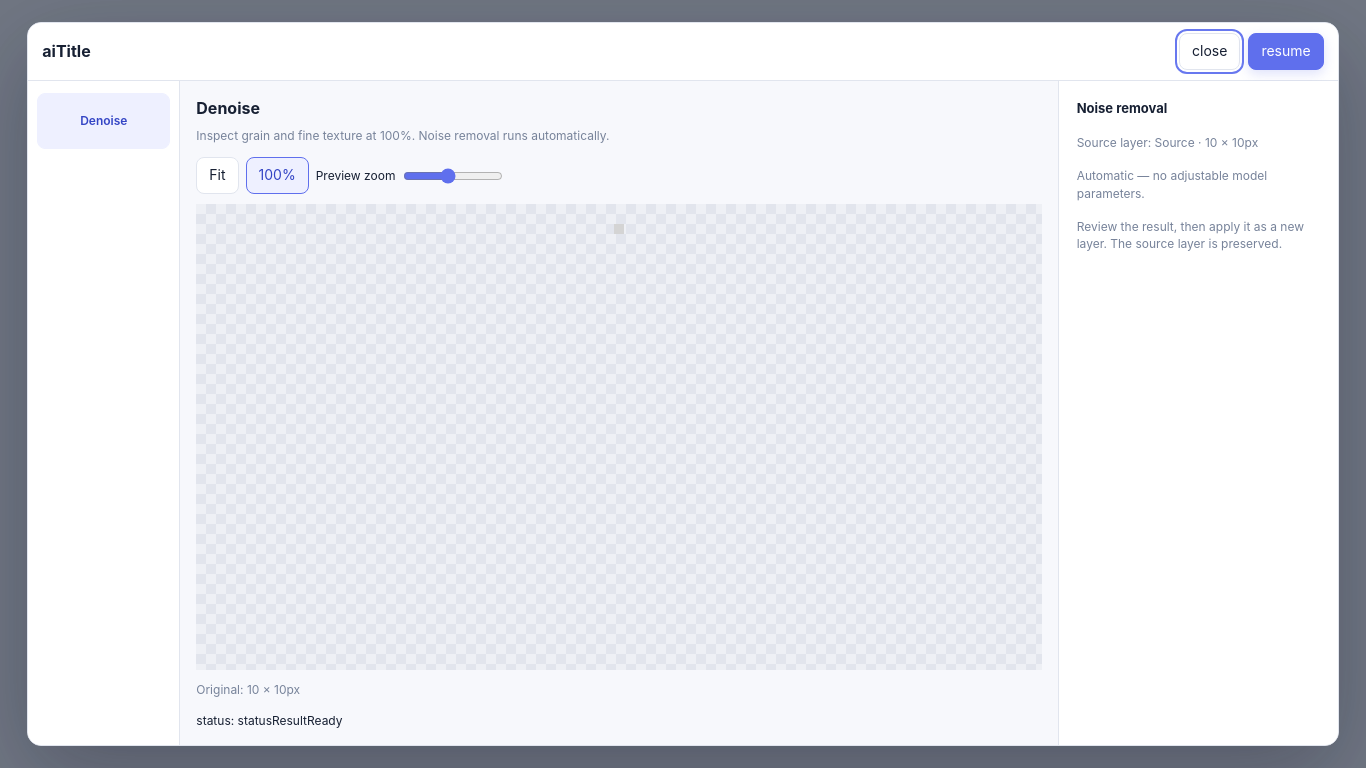
Test: AI result review and application › returns to editable settings without applying the preview
Click the button "resume".
click(1286, 51)  # box [1248, 33, 1324, 70]
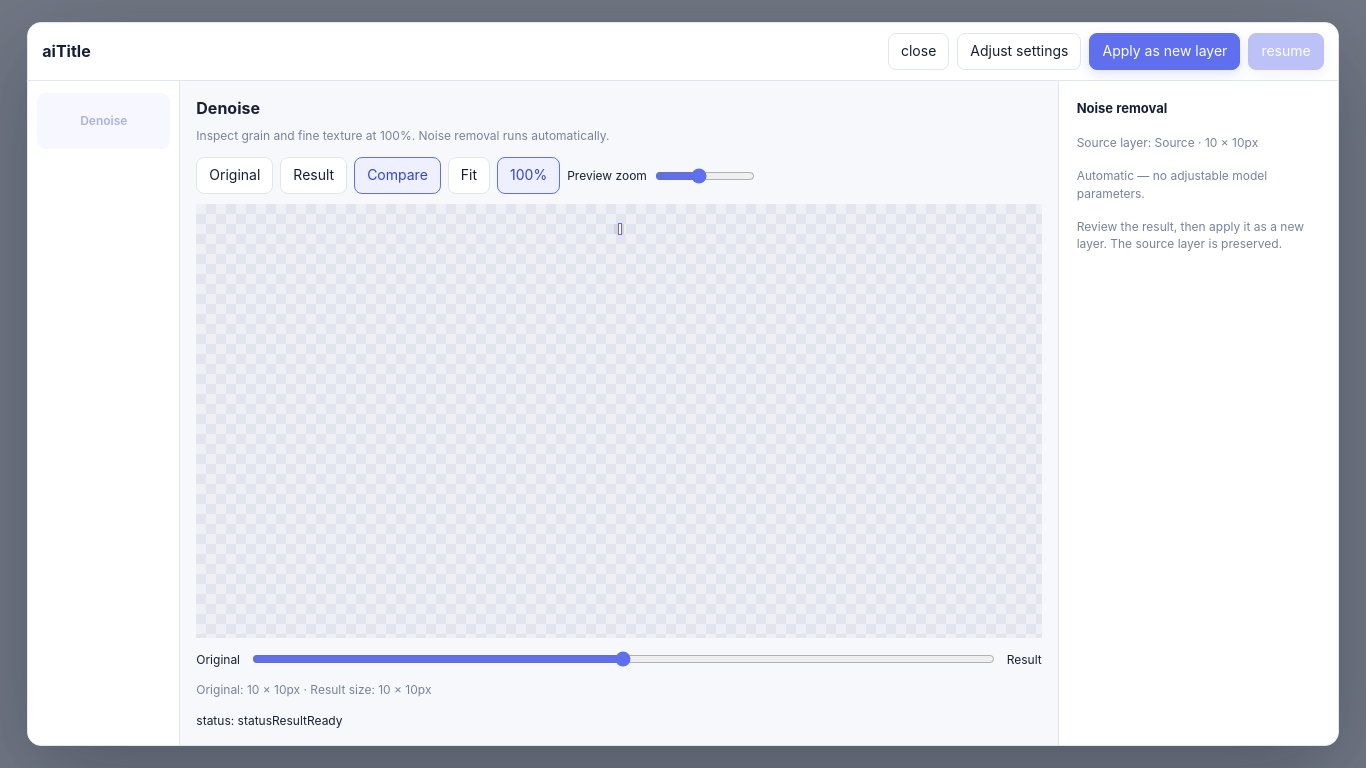
Click the button "Adjust settings".
click(1019, 51)  # box [957, 33, 1082, 70]
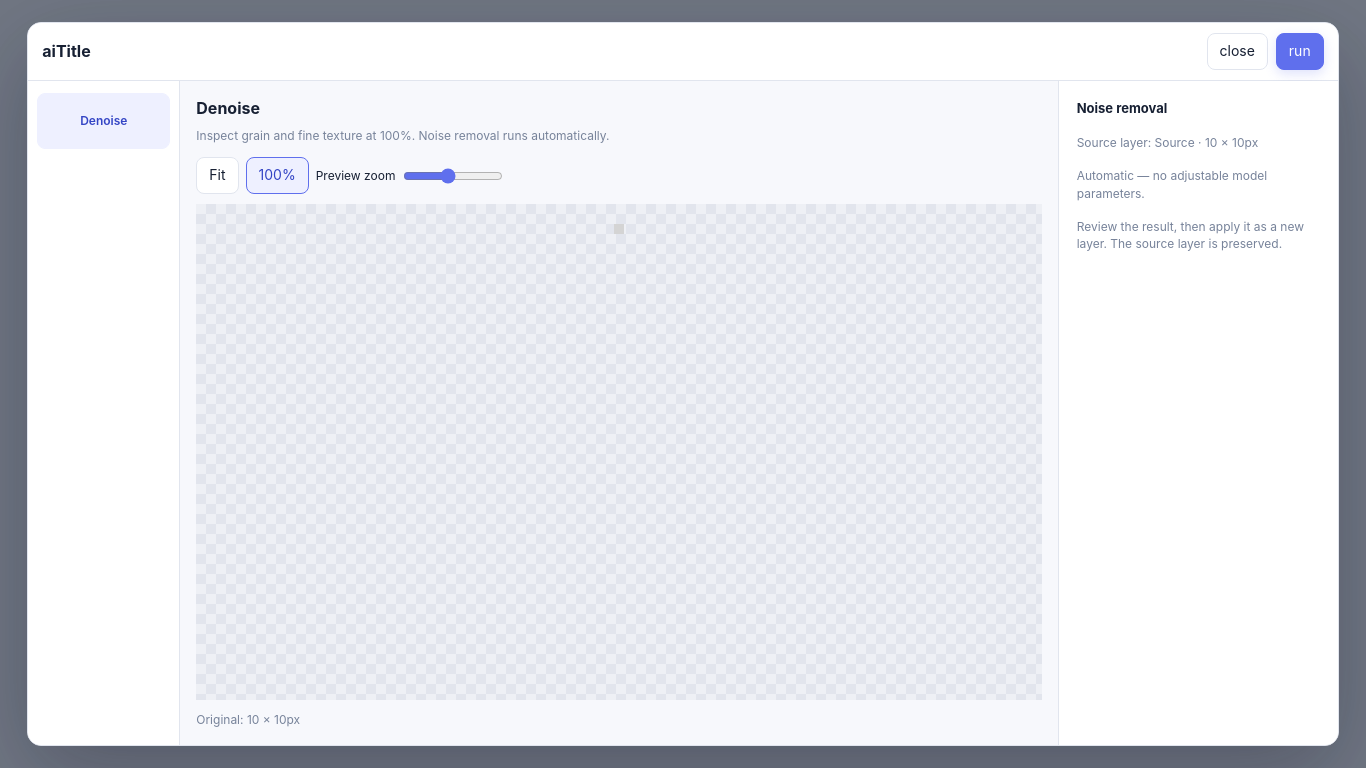
Expected: the button "run" is enabled, [1276, 33, 1324, 70]
